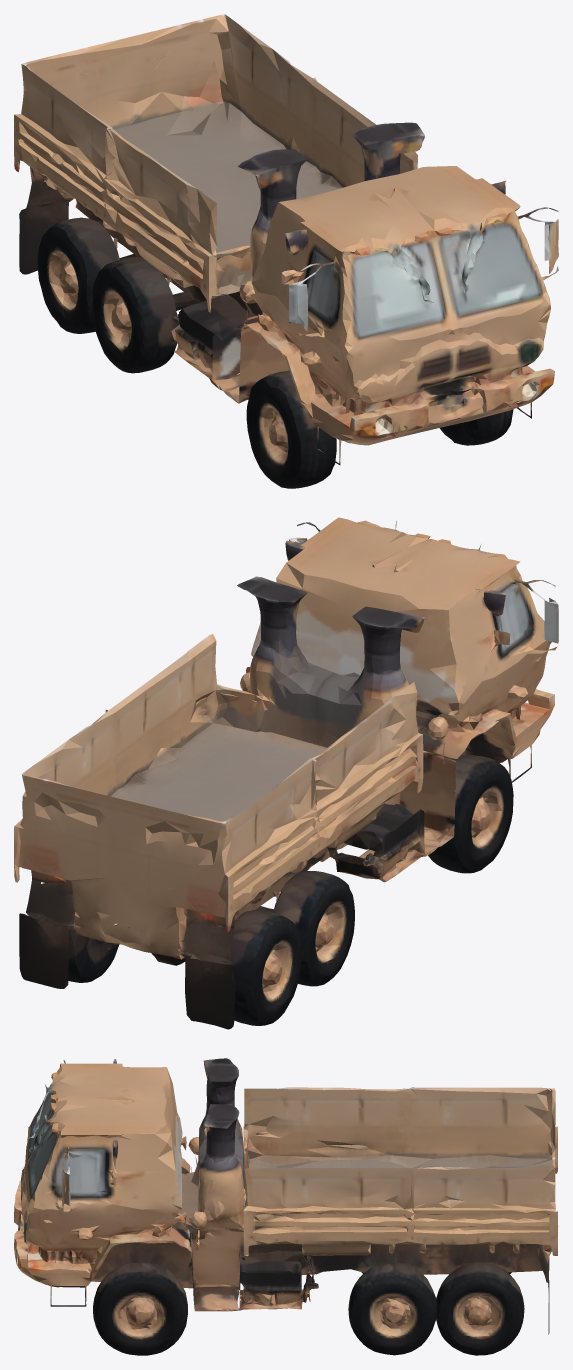
Rendered from M1083_A1P2_Truck.glb.
3 views of the same model, one above another, from view 1: azimuth 30°, elevation 25°; view 2: azimuth 150°, elevation 25°; view 3: azimuth 270°, elevation 25° (orthographic). The views are drawn at different scales.
Parts seen in each view (by area): view 1: model; view 2: model; view 3: model.
Part boxes in pixels (x1,y1,x2,y2): model: [14, 14, 558, 488]; model: [14, 517, 558, 1029]; model: [14, 1058, 558, 1355].
Bounding box in the file's own units: 0.8711 × 0.8588 × 1.89.
Materials: 1 (1 with a texture image).
